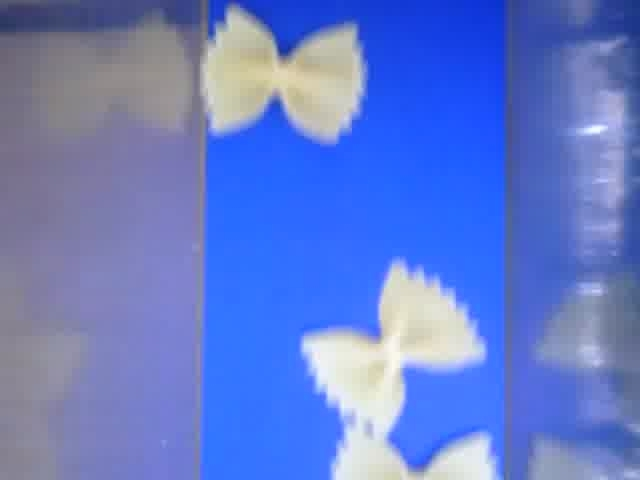farfalle: (302, 257, 490, 439), (199, 4, 368, 146), (332, 427, 496, 480)
